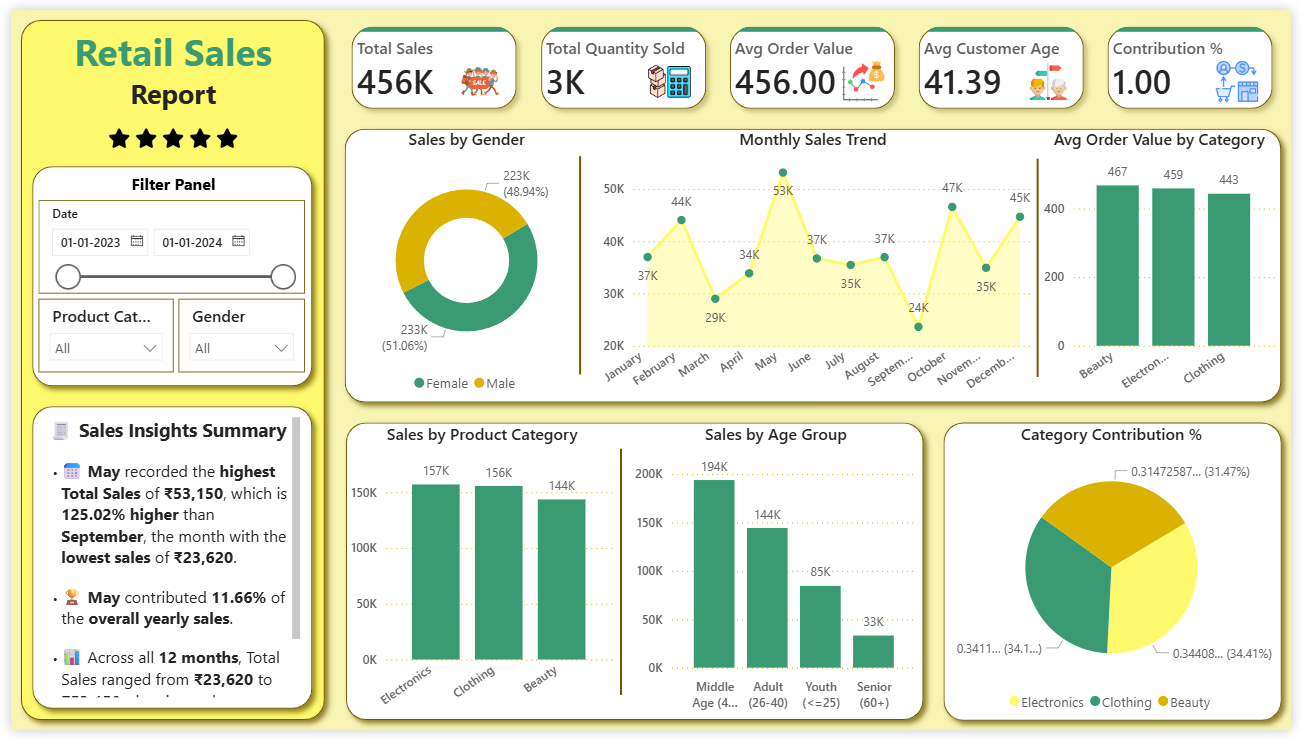

Layout of this report page (visuals, bound fields, positions):
{"tool":"powerbi","page":{"name":"Visuals","canvas":[1280,720],"ordinal":0},"visuals":[{"type":"cardVisual","fields":{"Data":["Sum(Sales_Transactions.Total Amount)","Sales_Transactions.Total Quantity","Sales_Transactions.Average Order Value","Sales_Transactions.Average Age","Sales_Transactions.Category Contribution"]},"box":[323.8,0,956.2,116.2],"z":0,"group":"g1"},{"type":"slicer","fields":{"Values":["Sales_Transactions.Date"]},"box":[27.5,189.7,266.2,93.8],"z":0,"group":"g2"},{"type":"shape","box":[325,402.5,597.5,317.5],"z":0},{"type":"image","box":[442.6,43.8,53.8,55],"z":1000,"group":"g1"},{"type":"shape","box":[323.8,108.4,956.4,293.7],"z":1000},{"type":"slicer","fields":{"Values":["Sales_Transactions.Product Category"]},"box":[27.5,288.5,135,73.8],"z":1000,"group":"g2"},{"type":"image","box":[632.6,43.8,52.5,55],"z":2000,"group":"g1"},{"type":"slicer","fields":{"Values":["Sales_Transactions.Gender"]},"box":[167.5,288.5,126.2,73.8],"z":2000,"group":"g2"},{"type":"shape","box":[922.1,402.1,358.1,318.4],"z":2000},{"type":"shape","box":[0,0,323.8,720],"z":3000},{"type":"image","box":[1200,43.8,52.5,55],"z":3000,"group":"g1"},{"type":"image","box":[1011.3,43.8,52.5,55],"z":4000,"group":"g1"},{"type":"clusteredColumnChart","title":"Sales by Product Category","fields":{"Y":["Sales_Transactions.Total Sales"],"Category":["Sales_Transactions.Product Category"]},"box":[335,412.5,272.5,296.2],"z":4000},{"type":"image","box":[826.3,43.8,52.5,55],"z":5000,"group":"g1"},{"type":"donutChart","title":"Sales by Gender","fields":{"Category":["Sales_Transactions.Gender"],"Y":["Sales_Transactions.Total Sales"]},"box":[334.8,118,241.5,274],"z":5000},{"type":"lineChart","title":"Monthly Sales Trend","fields":{"Y":["Sales_Transactions.Total Sales"],"Category":["Sales_Transactions.Date.Variation.Date Hierarchy.Month"]},"box":[576.3,118,451.5,274.4],"z":6000},{"type":"pieChart","title":"Category Contribution %","fields":{"Category":["Sales_Transactions.Product Category"],"Y":["Sales_Transactions.Category Contribution"]},"box":[933.1,413,336.2,297.8],"z":7000},{"type":"columnChart","title":"Sales by Age Group","fields":{"Category":["Sales_Transactions.Age Group"],"Y":["Sales_Transactions.Total Sales"]},"box":[618.9,413,292.3,296.4],"z":8000},{"type":"columnChart","title":"Avg Order Value by Category","fields":{"Category":["Sales_Transactions.Product Category"],"Y":["Sales_Transactions.Average Order Value"]},"box":[1027.8,118,241.5,274.4],"z":9000},{"type":"shape","box":[565.4,146.8,8.2,218.2],"z":10000},{"type":"shape","box":[1022.3,148.2,8.2,218.2],"z":11000},{"type":"shape","box":[603.8,438.8,12.5,246.2],"z":12000},{"type":"textbox","box":[32.6,11.6,259.3,117.4],"z":13000},{"type":"image","box":[12.3,38,299.3,180.9],"z":14000},{"type":"group","id":"g1","title":"Group 1","box":[323.8,0,956.2,116.2],"z":15000},{"type":"shape","box":[11.2,146.2,300,240],"z":16000},{"type":"group","id":"g2","title":"Group 2","box":[27.5,189.7,266.2,172.5],"z":17000},{"type":"textbox","box":[90,157.5,145,32.5],"z":19000},{"type":"shape","box":[11.2,386.2,300,322.5],"z":19001},{"type":"textbox","box":[27.5,402.5,266.2,290],"z":19002}]}

Visuals, with their boxes in screenshot pixels (x1, y1, x2, y2), scaled from the page's 1280x720 canvas onto the 1302x740 screenshot:
cardVisual - Sum(Sales_Transactions.Total Amount) x Sales_Transactions.Total Quantity: <bbox>329, 0, 1301, 119</bbox>
slicer - Sales_Transactions.Date: <bbox>28, 195, 299, 291</bbox>
shape: <bbox>331, 414, 938, 739</bbox>
image: <bbox>450, 45, 505, 102</bbox>
shape: <bbox>329, 111, 1301, 413</bbox>
slicer - Sales_Transactions.Product Category: <bbox>28, 297, 165, 372</bbox>
image: <bbox>643, 45, 697, 102</bbox>
slicer - Sales_Transactions.Gender: <bbox>170, 297, 299, 372</bbox>
shape: <bbox>938, 413, 1301, 739</bbox>
shape: <bbox>0, 0, 329, 739</bbox>
image: <bbox>1221, 45, 1274, 102</bbox>
image: <bbox>1029, 45, 1082, 102</bbox>
"Sales by Product Category" clusteredColumnChart: <bbox>341, 424, 618, 728</bbox>
image: <bbox>841, 45, 894, 102</bbox>
"Sales by Gender" donutChart: <bbox>341, 121, 586, 403</bbox>
"Monthly Sales Trend" lineChart: <bbox>586, 121, 1045, 403</bbox>
"Category Contribution %" pieChart: <bbox>949, 424, 1291, 731</bbox>
"Sales by Age Group" columnChart: <bbox>630, 424, 927, 729</bbox>
"Avg Order Value by Category" columnChart: <bbox>1045, 121, 1291, 403</bbox>
shape: <bbox>575, 151, 583, 375</bbox>
shape: <bbox>1040, 152, 1048, 377</bbox>
shape: <bbox>614, 451, 627, 704</bbox>
textbox: <bbox>33, 12, 297, 133</bbox>
image: <bbox>13, 39, 317, 225</bbox>
"Group 1" group: <bbox>329, 0, 1301, 119</bbox>
shape: <bbox>11, 150, 317, 397</bbox>
"Group 2" group: <bbox>28, 195, 299, 372</bbox>
textbox: <bbox>92, 162, 239, 195</bbox>
shape: <bbox>11, 397, 317, 728</bbox>
textbox: <bbox>28, 414, 299, 712</bbox>
